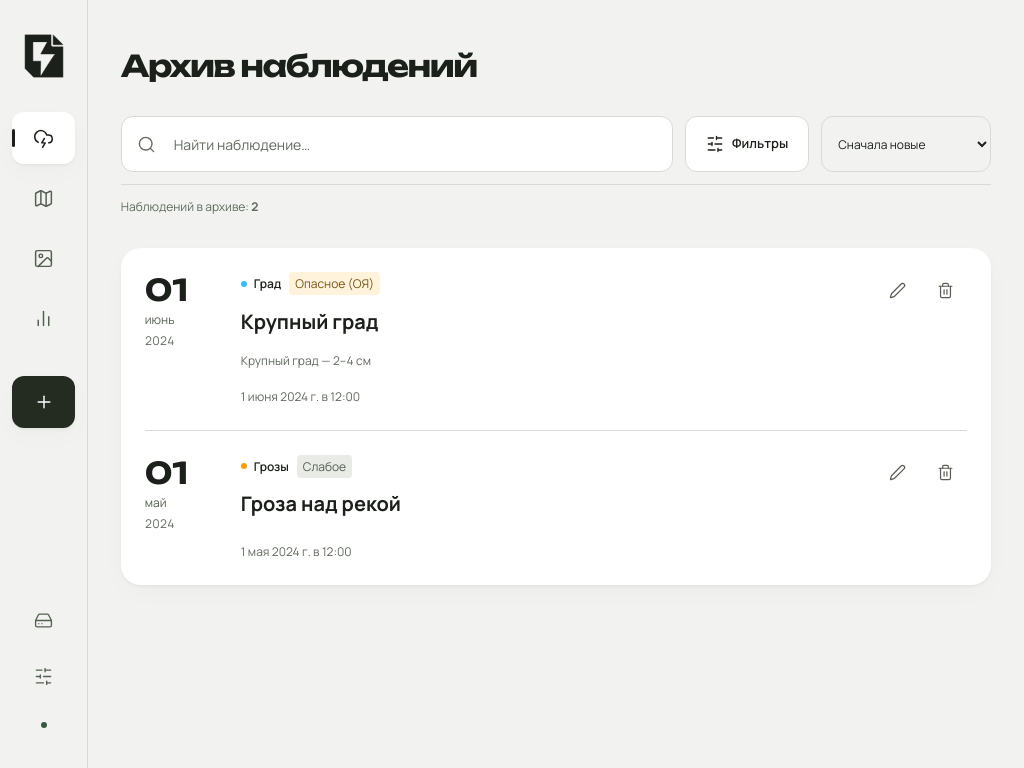
Test: search and filters › filters by search query
Type "град" into the search field named "Поиск по архиву" at (397, 144), box [121,116,673,172]
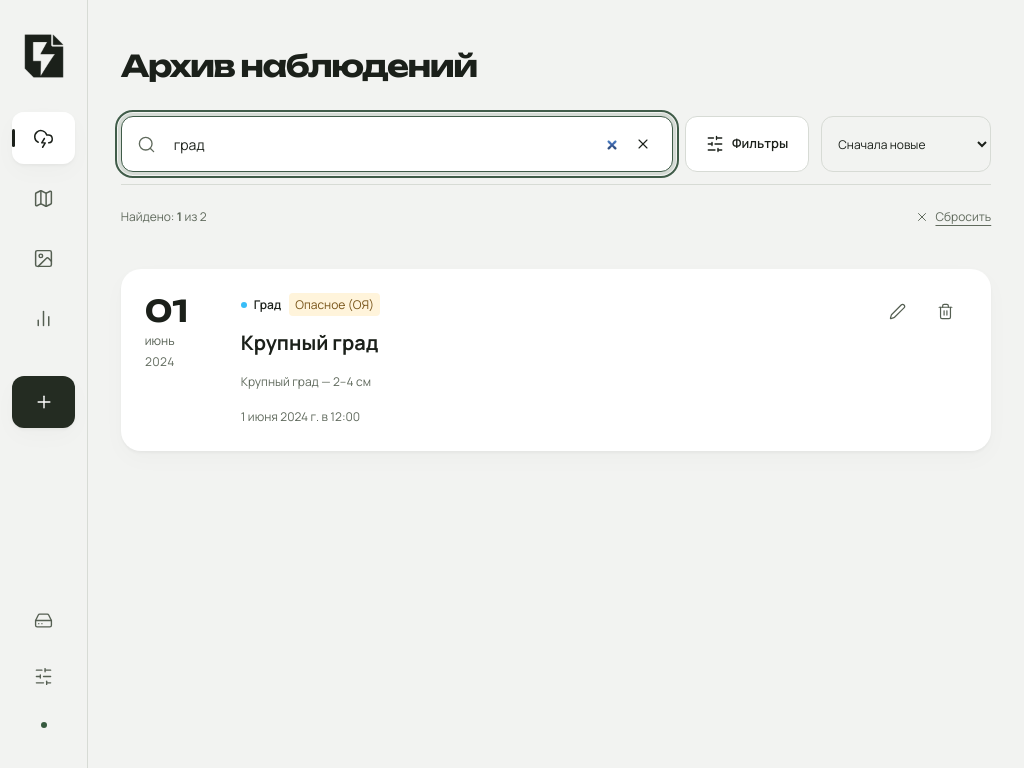
Expected: the button "Крупный град" is shown, [241,320,378,364]
Now the button "Гроза над рекой" is gone
